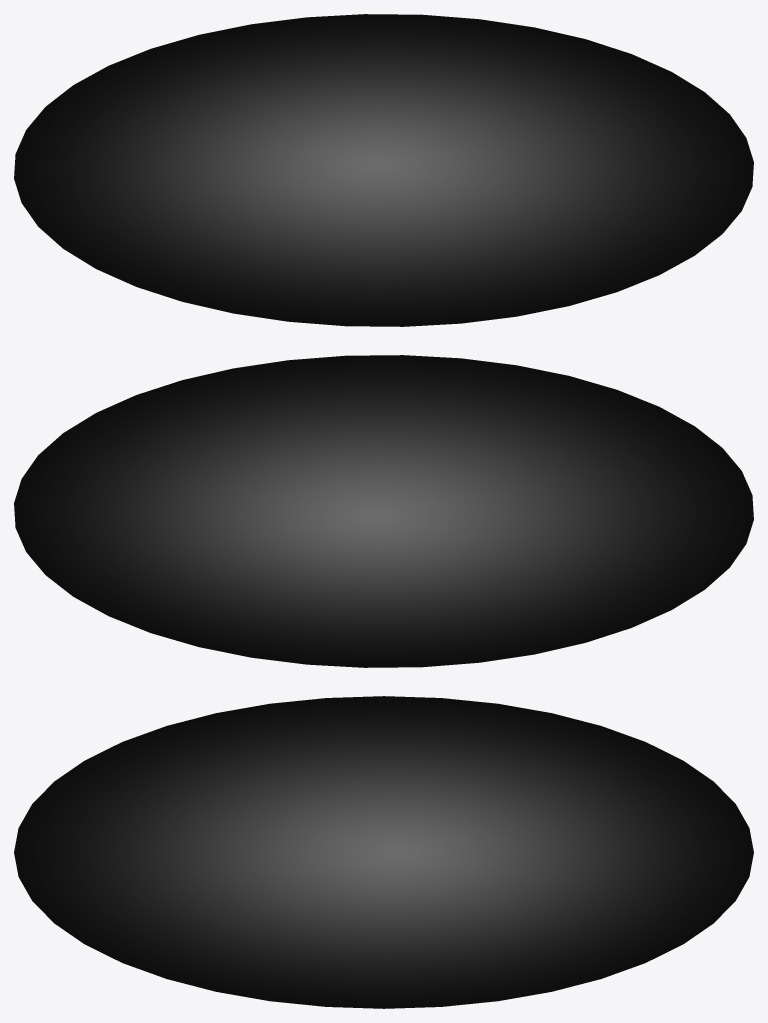
The model's file is gauge_round_background.dae.
3 views of the same model, one above another, from view 1: azimuth 30°, elevation 25°; view 2: azimuth 150°, elevation 25°; view 3: azimuth 270°, elevation 25° (orthographic).
Visible parts, largest first — view 1: qt_gauge_background_round_1; view 2: qt_gauge_background_round_1; view 3: qt_gauge_background_round_1.
Part boxes in pixels (x1=…): qt_gauge_background_round_1: x1=14, y1=14, x2=753, y2=326; qt_gauge_background_round_1: x1=14, y1=355, x2=753, y2=667; qt_gauge_background_round_1: x1=14, y1=696, x2=753, y2=1008.
Size of the model in its own units: 24.74 by 0 by 24.74.
